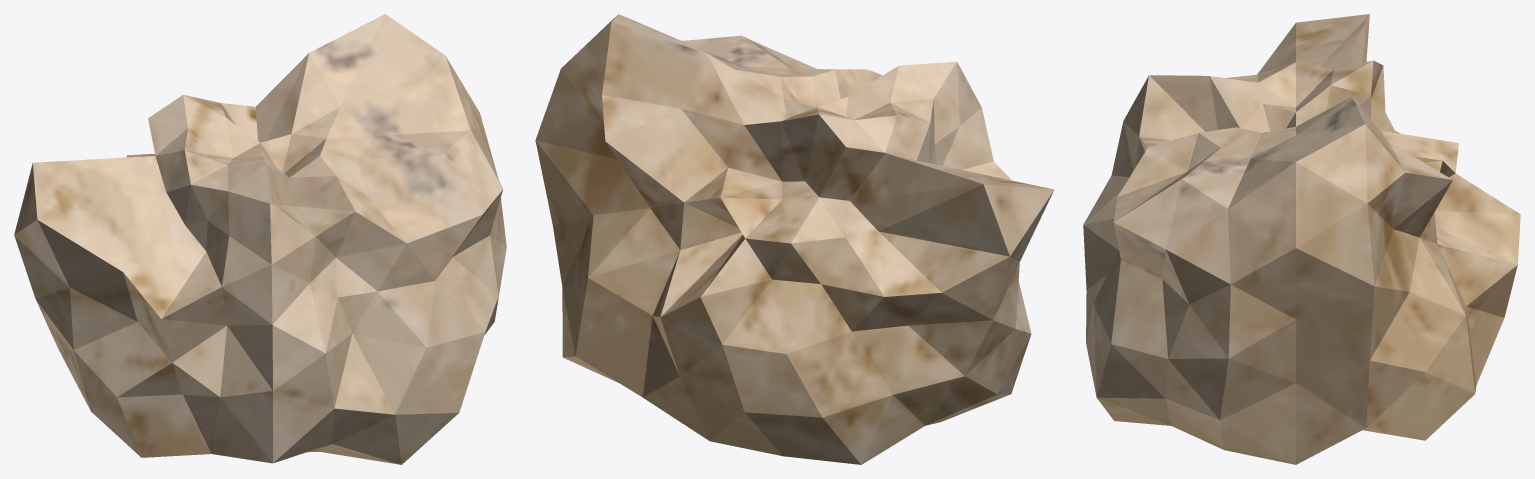
File: CrumpledPaper.fbx
3 views of the same model, side by side, from view 1: azimuth 30°, elevation 25°; view 2: azimuth 150°, elevation 25°; view 3: azimuth 270°, elevation 25° (orthographic). The views are drawn at different scales.
Parts seen in each view (by area): view 1: CrumpledPaper_Low; view 2: CrumpledPaper_Low; view 3: CrumpledPaper_Low.
Part boxes in pixels (x1,y1,x2,y2): CrumpledPaper_Low: [14, 14, 506, 464]; CrumpledPaper_Low: [535, 14, 1054, 464]; CrumpledPaper_Low: [1083, 14, 1520, 464].
Bounding box in the file's own units: 0.2467 × 0.1773 × 0.201.
